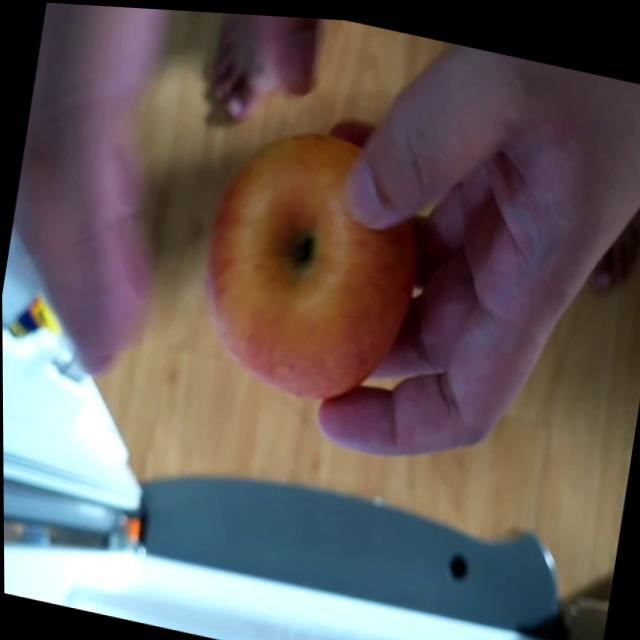apple: (185, 106, 443, 417)
